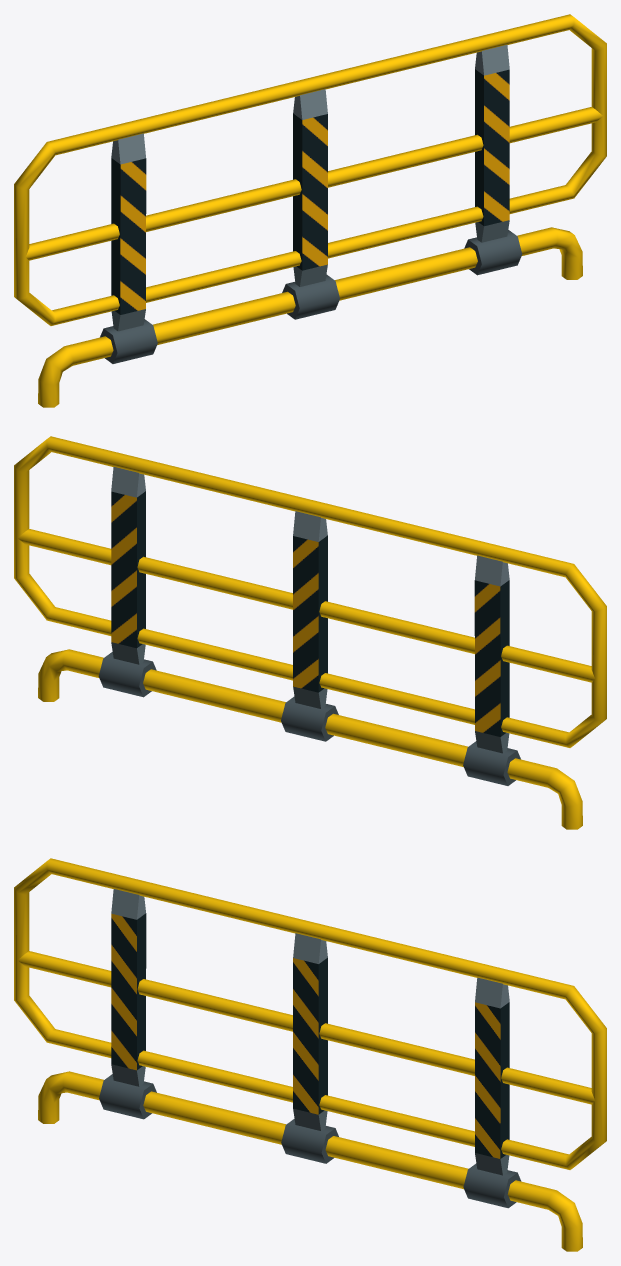
Rendered from Fence_type_C_003.fbx.
3 views of the same model, one above another, from view 1: azimuth 30°, elevation 25°; view 2: azimuth 150°, elevation 25°; view 3: azimuth 330°, elevation 25° (orthographic).
Visible parts, largest first — view 1: Fence_type_C_003; view 2: Fence_type_C_003; view 3: Fence_type_C_003.
Boxes of the visible parts, x1,y1,x2,y2 form: Fence_type_C_003: [14, 14, 606, 407]; Fence_type_C_003: [14, 436, 606, 829]; Fence_type_C_003: [14, 858, 606, 1251].
Bounding box in the file's own units: 337 × 18.39 × 142.
